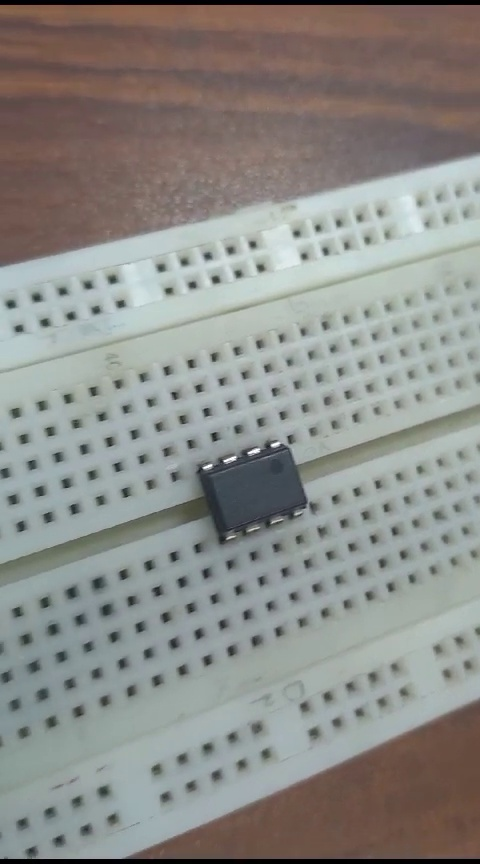IC: (187, 436, 311, 543)
